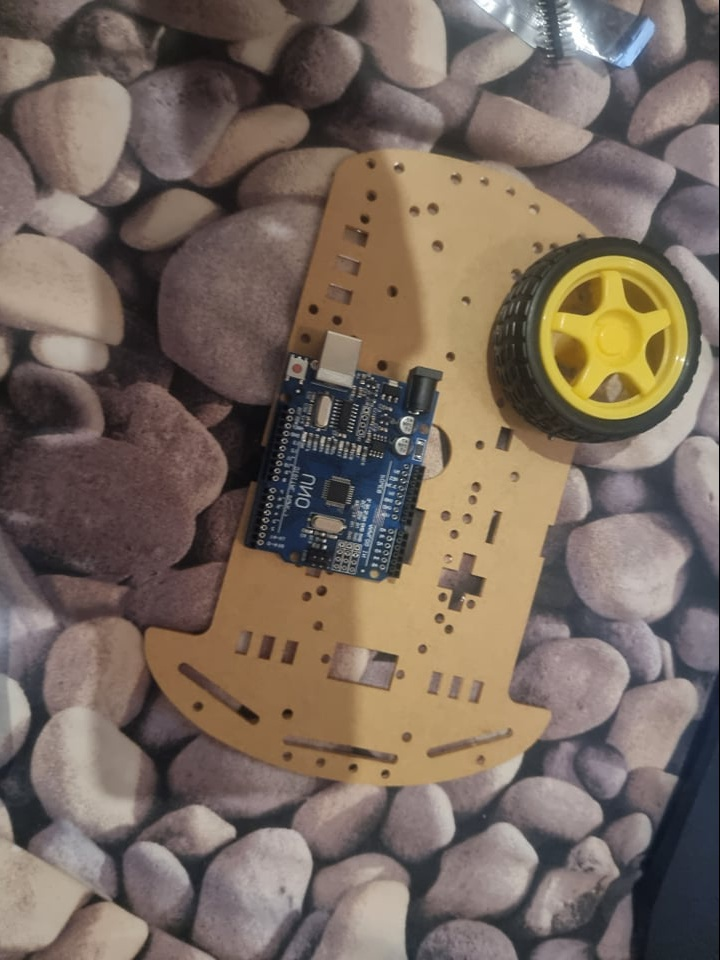UNO R3: (246, 328, 445, 583)
